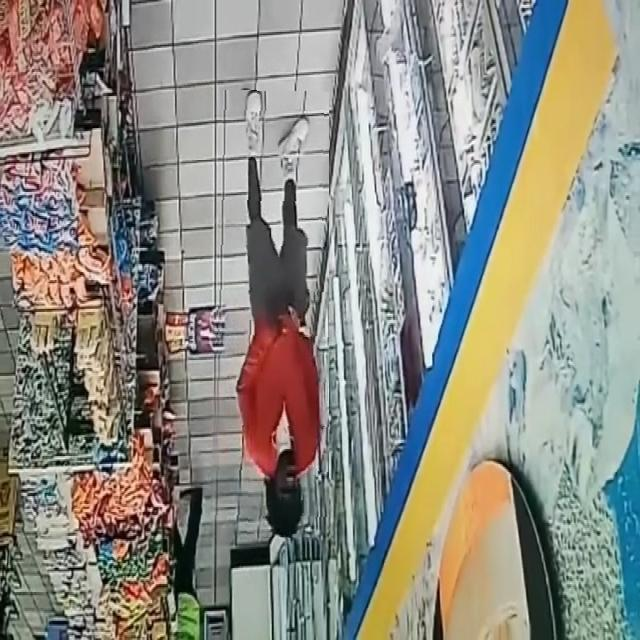Shoplifting: (213, 90, 329, 538)
